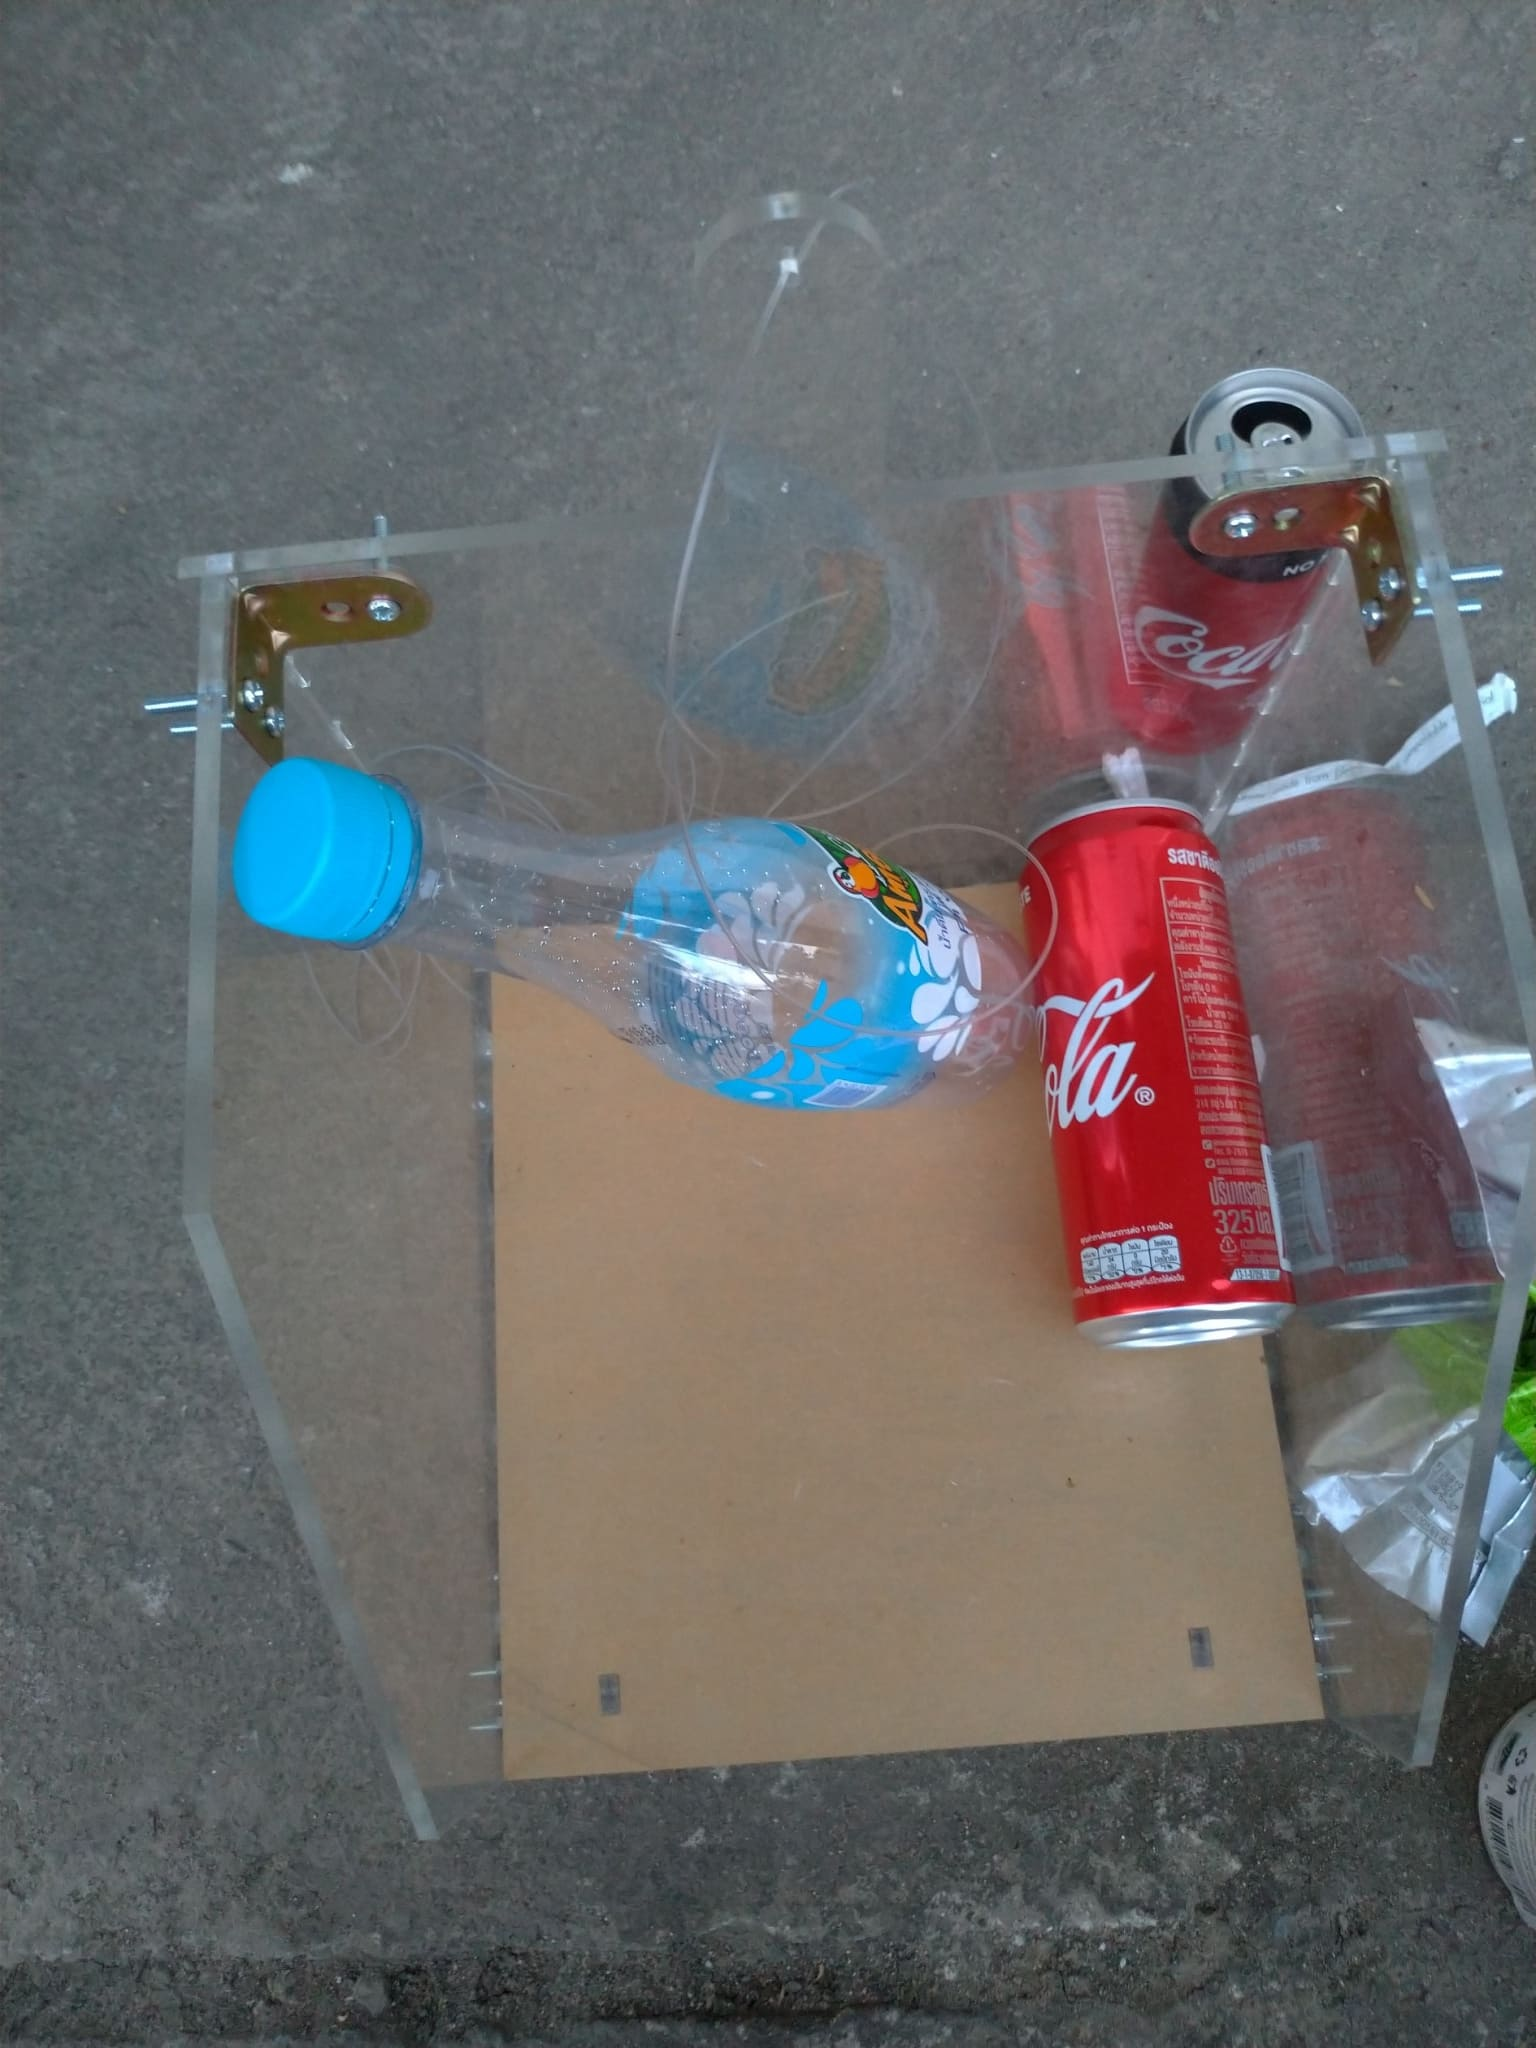AlCan: (1010, 798, 1297, 1361), (1100, 368, 1367, 755)
Others: (1297, 1238, 1536, 1650)
PlasticBottle: (232, 758, 1033, 1114)
